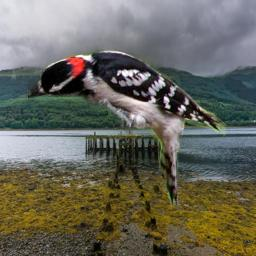Woodpecker: (28, 48, 227, 211)
